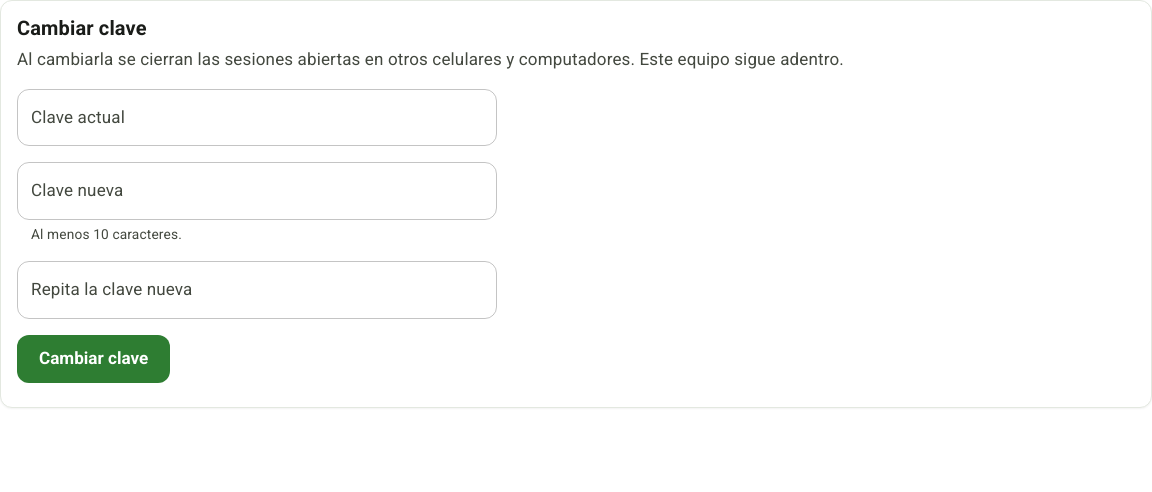
Cambiar clave › refuses a wrong current password without signing out
This screenshot has width=1152, height=492.
Type "no-es-esta" into the password field labelled "Clave actual".
click(257, 118); type("no-es-esta")  # box x1=17 y1=89 x2=497 y2=146
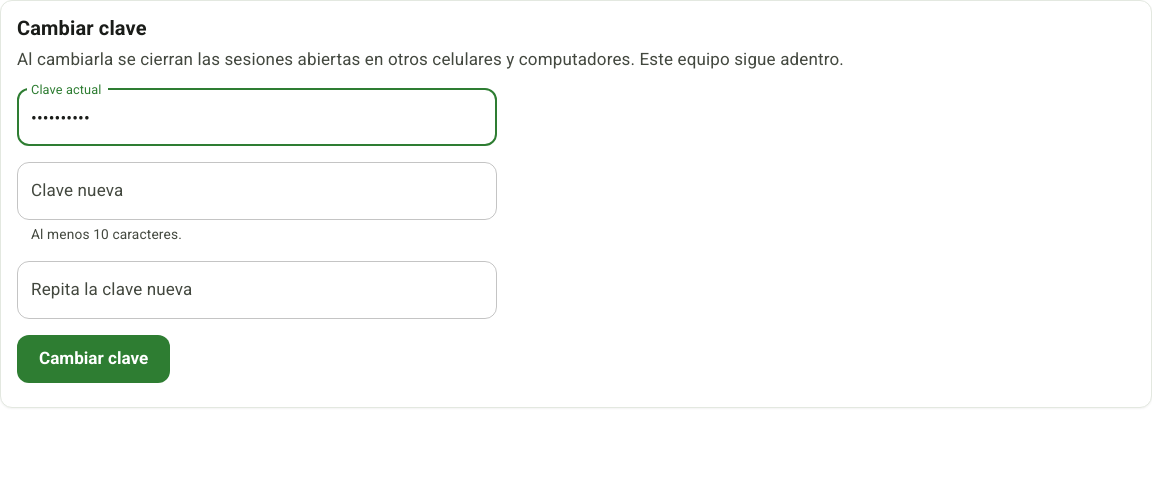
Type "una-clave-nueva-1" into the password field labelled "Clave nueva".
click(257, 191); type("una-clave-nueva-1")  # box x1=17 y1=162 x2=497 y2=220
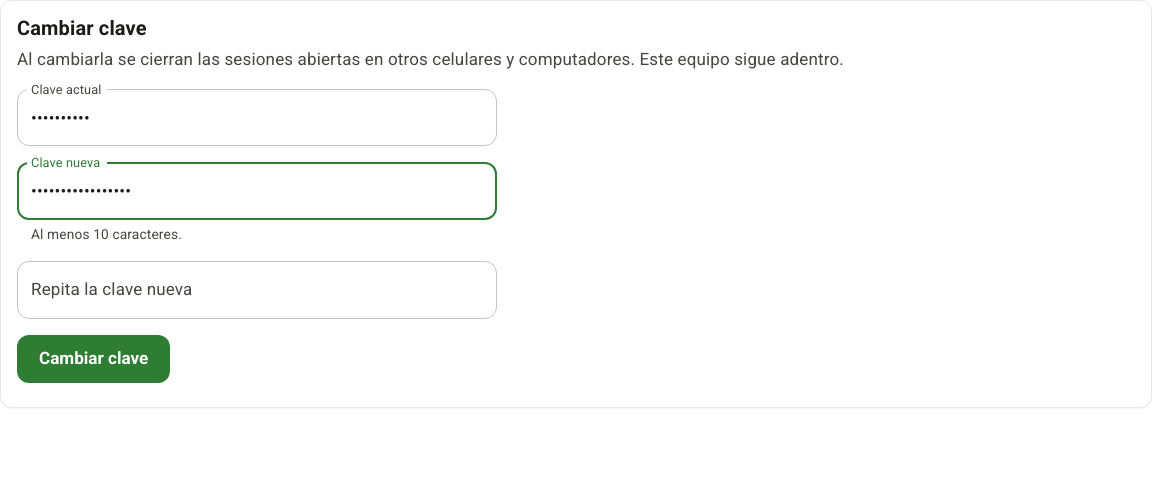
Type "una-clave-nueva-1" into the password field labelled "Repita la clave nueva".
click(257, 290); type("una-clave-nueva-1")  # box x1=17 y1=262 x2=497 y2=319
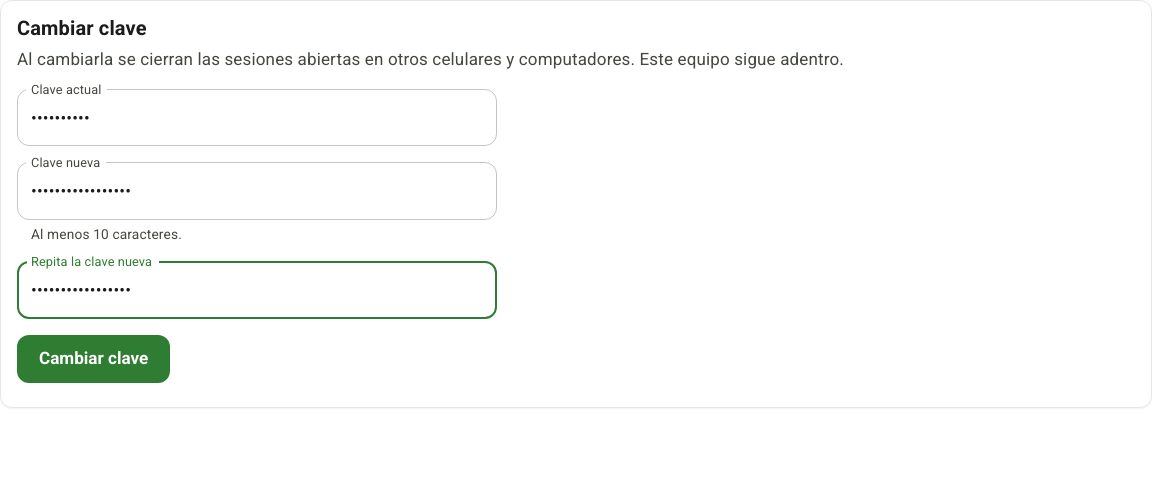
Click the button "Cambiar clave".
click(94, 359)  # box x1=17 y1=335 x2=170 y2=383
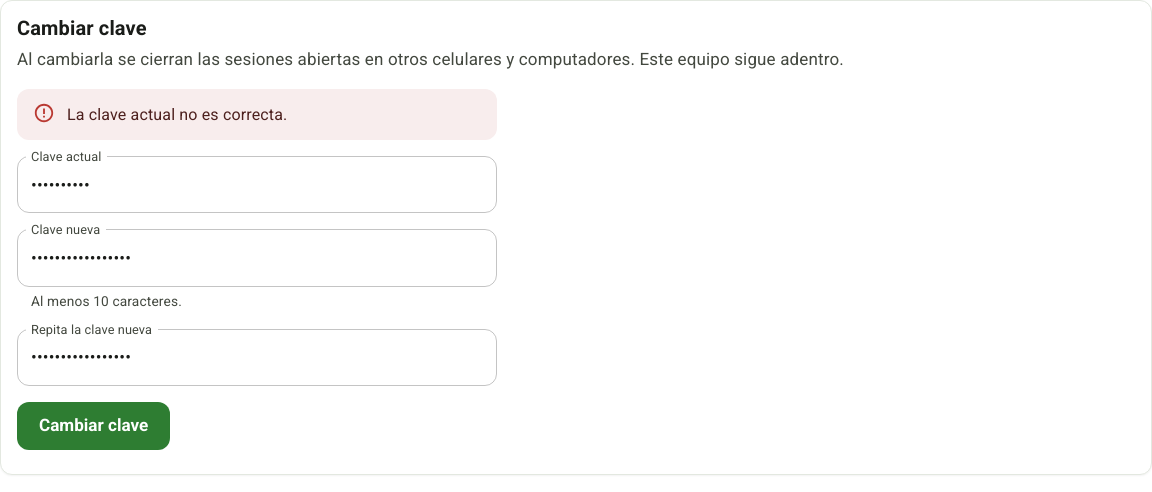
expect the text "La clave actual no es correcta." is shown: met, box x1=67 y1=105 x2=288 y2=124
